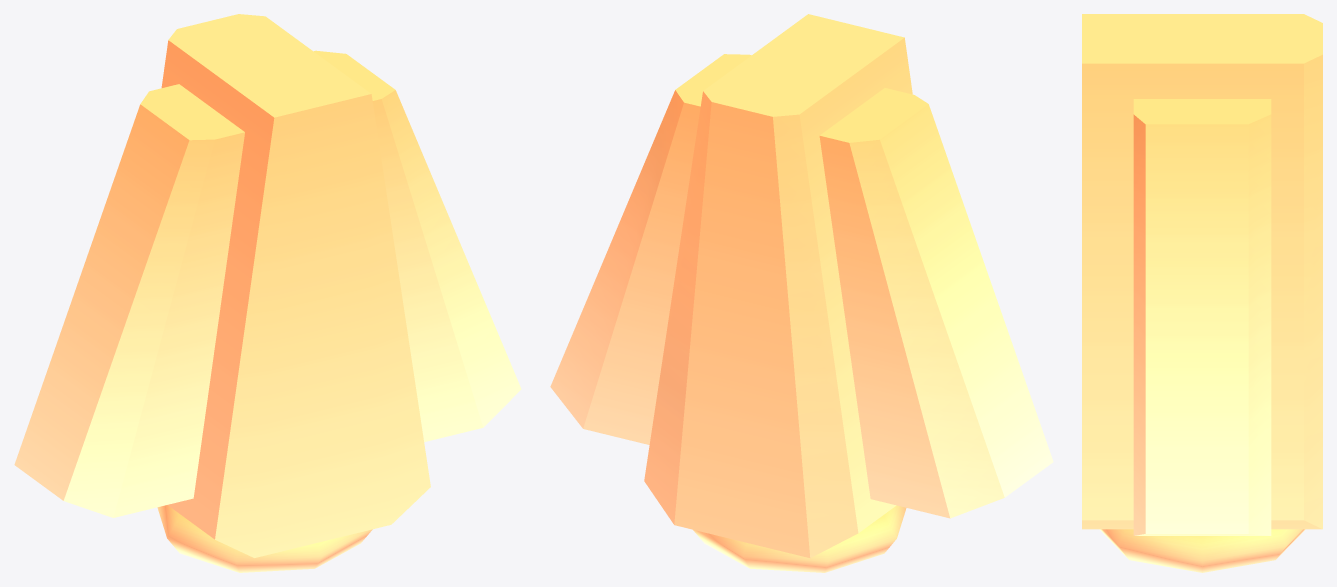
The model's file is wood_pommel_160_004.glb.
3 renders of one model, left to right at view 1: azimuth 30°, elevation 25°; view 2: azimuth 150°, elevation 25°; view 3: azimuth 270°, elevation 25°, orthographic. The views are drawn at different scales.
Parts seen in each view (by area): view 1: wood_pommel_160.004; view 2: wood_pommel_160.004; view 3: wood_pommel_160.004.
Part boxes in pixels (x1=…): wood_pommel_160.004: x1=14, y1=14, x2=521, y2=572; wood_pommel_160.004: x1=550, y1=14, x2=1053, y2=572; wood_pommel_160.004: x1=1082, y1=14, x2=1322, y2=572.
Size of the model in its own units: 2.35 by 2.3 by 1.02.
Materials: 1 (1 with a texture image).
